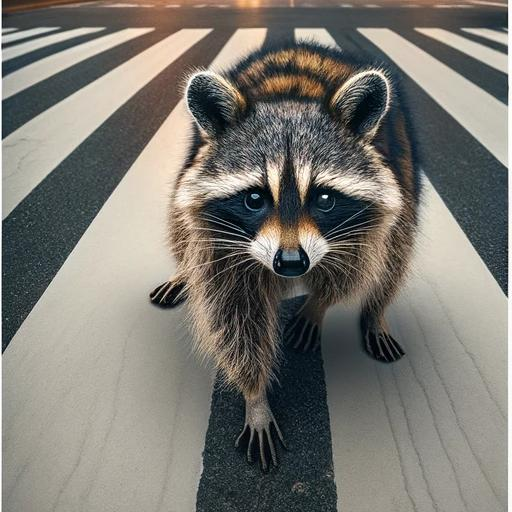raccoon: (144, 35, 432, 417)
